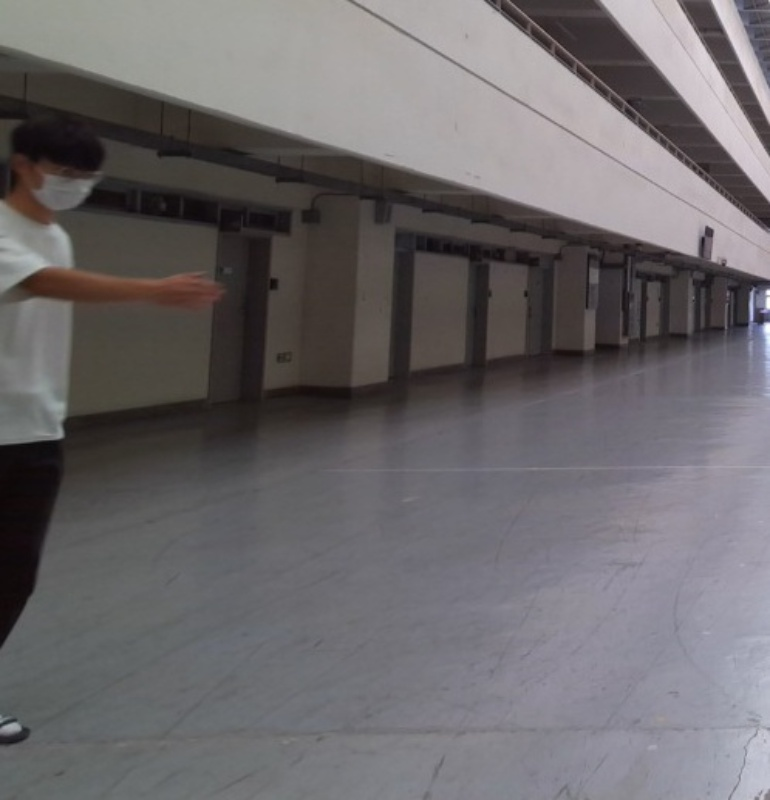person: (0, 112, 229, 742)
